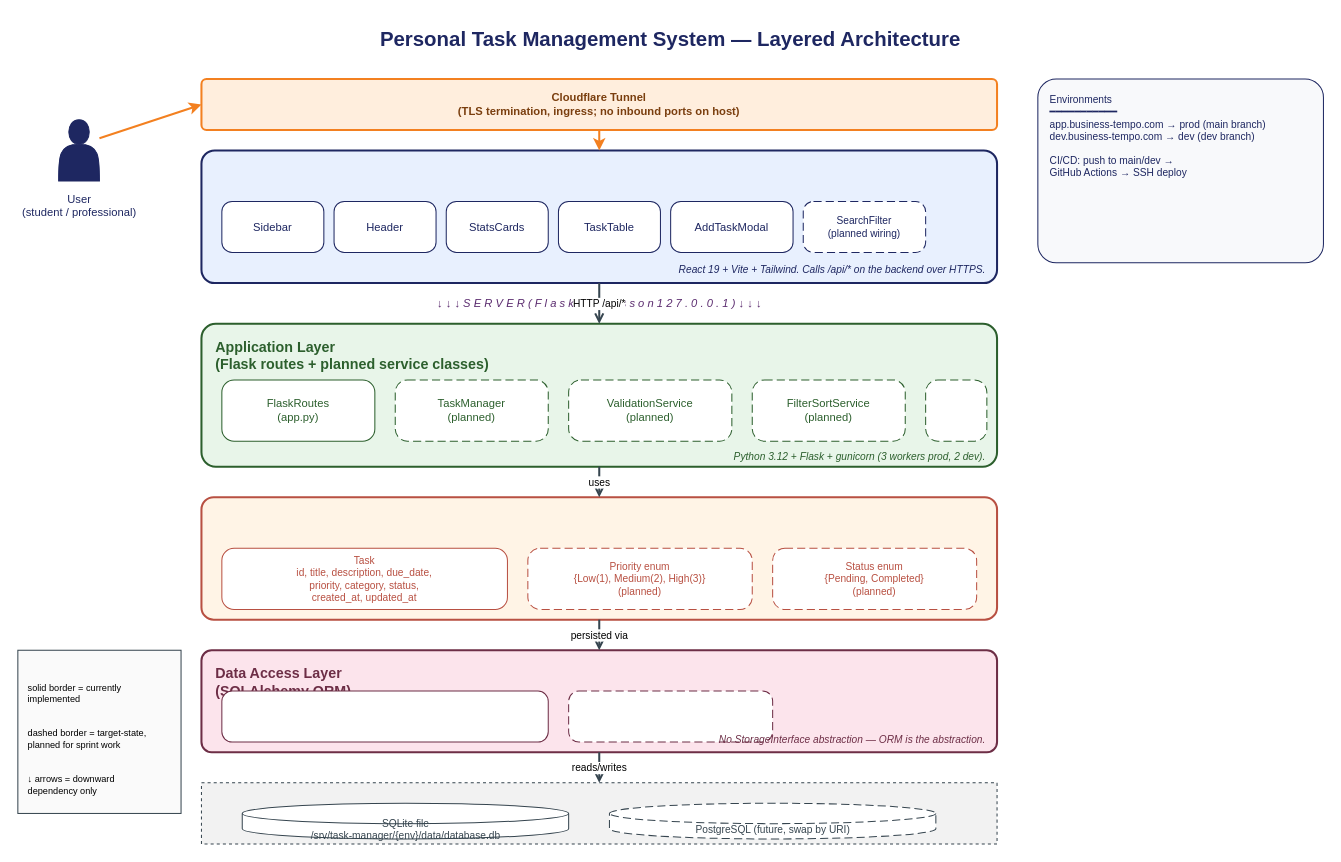
Some shapes in this 1341 by 862 pixel diagram are drawn without their labels. The shapes that lost their labels are listed below. From the top down, each one's box as (x1, y1, x2, y2) in pixels, then its label:
(200, 149, 998, 284): Presentation Layer (Browser — React SPA)
(925, 379, 987, 441): ReminderService (planned, w/ APScheduler)
(200, 496, 998, 620): Domain Layer (SQLAlchemy models + enums)
(17, 649, 181, 813): Legend
(221, 690, 548, 742): Flask-SQLAlchemy session Task.query / session.commit / etc.
(568, 690, 773, 742): Alembic migrations (planned)
(200, 782, 997, 844): Persistence
